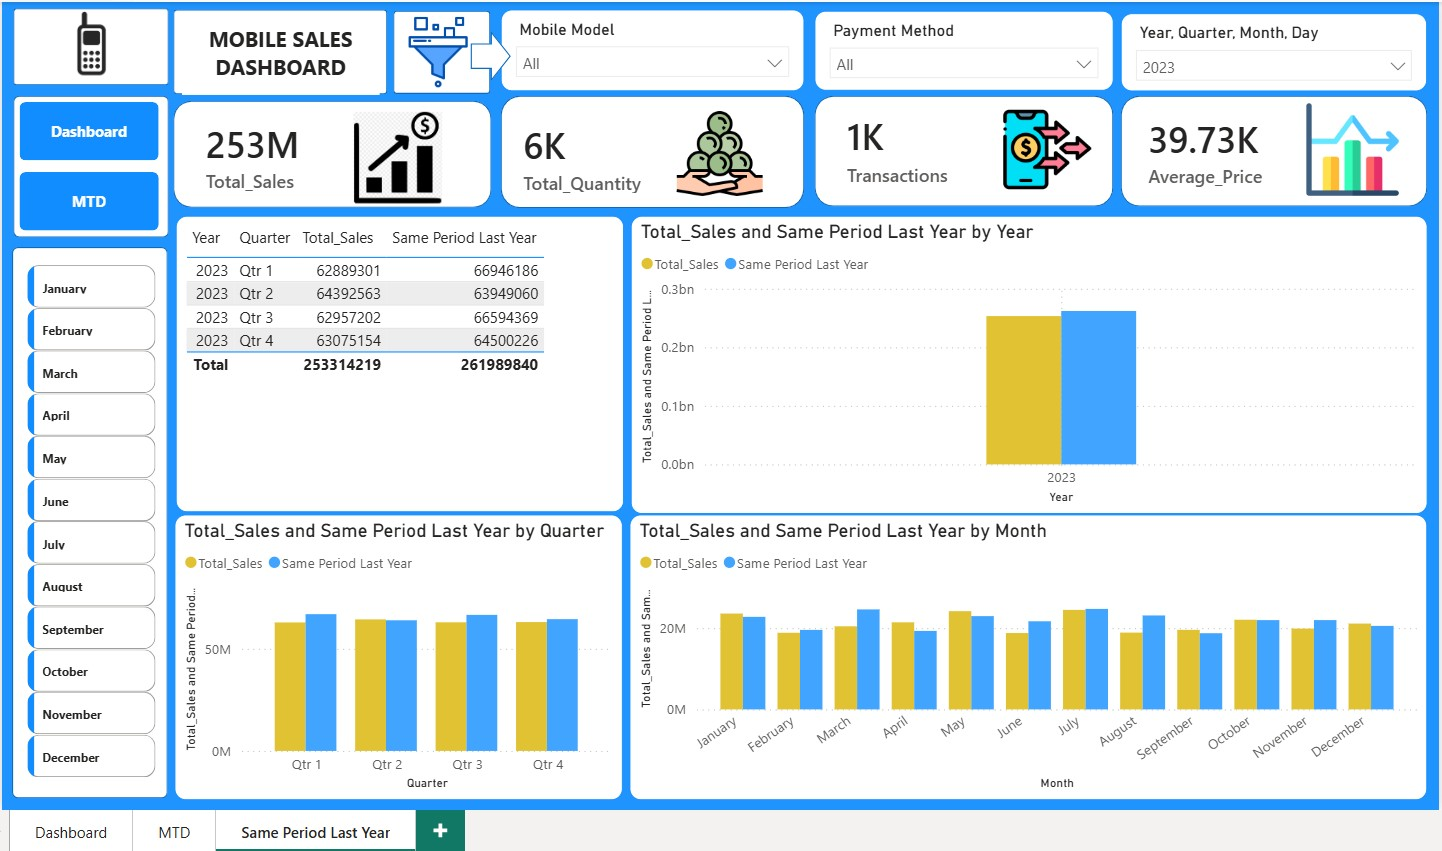

The page's visual inventory and layout, read from the dashboard file:
{"tool":"powerbi","page":{"name":"Same Period Last Year","canvas":[1280,720],"ordinal":2},"visuals":[{"type":"shape","box":[9.6,5.5,138.6,68.6],"z":0},{"type":"shape","box":[9.6,83.7,138.6,126.2],"z":1000},{"type":"shape","box":[152,88.1,283.5,95.3],"z":2000},{"type":"image","box":[16.5,5.5,124.9,63.1],"z":3000},{"type":"cardVisual","fields":{"Data":["Mobile_Data.Total_Sales"]},"box":[152.3,83.7,142.7,107],"z":4000},{"type":"image","box":[312.9,94.7,79.6,87.8],"z":5000},{"type":"shape","box":[444.6,83.7,270.3,100.2],"z":6000},{"type":"cardVisual","fields":{"Data":["Mobile_Data.Total_Quantity"]},"box":[435,90.6,164.7,97.4],"z":7000},{"type":"shape","box":[996.2,83.7,273.1,98.8],"z":8000},{"type":"shape","box":[723.2,83.7,266.2,98.8],"z":9000},{"type":"image","box":[591.4,94.7,96.1,81],"z":10000},{"type":"cardVisual","fields":{"Data":["Mobile_Data.Transactions"]},"box":[723.2,82.3,153.7,97.4],"z":11000},{"type":"cardVisual","fields":{"Data":["Mobile_Data.Average_Price"]},"box":[992.1,82.3,161.9,101.5],"z":12000},{"type":"image","box":[891.9,90.6,78.2,82.3],"z":13000},{"type":"image","box":[1154,90.6,97.4,82.3],"z":14000},{"type":"slicer","fields":{"Values":["Mobile_Data.Mobile Model"]},"box":[444.6,6.9,270.3,72.7],"z":15000},{"type":"slicer","fields":{"Values":["Custom_Calendar.Date.Variation.Date Hierarchy.Year","Custom_Calendar.Date.Variation.Date Hierarchy.Quarter","Custom_Calendar.Date.Variation.Date Hierarchy.Month","Custom_Calendar.Date.Variation.Date Hierarchy.Day"]},"box":[996.2,9.6,273.1,70],"z":16000},{"type":"slicer","fields":{"Values":["Mobile_Data.Payment Method"]},"box":[723.2,8.2,266.2,71.4],"z":17000},{"type":"shape","box":[348.5,8.2,86.4,74.1],"z":18000},{"type":"image","box":[344.4,12.3,89.2,64.5],"z":19000},{"type":"shape","box":[417.2,26.1,35.7,45.3],"z":20000},{"type":"shape","box":[152.3,6.9,190.7,75.5],"z":21000},{"type":"textbox","box":[160.5,15.1,175.6,67.2],"z":22000},{"type":"shape","box":[8.4,218.4,138.7,491],"z":23000},{"type":"advancedSlicerVisual","fields":{"Values":["Custom_Calendar.Date.Variation.Date Hierarchy.Month"]},"box":[18.1,229.2,124.3,471.7],"z":24000},{"type":"tableEx","fields":{"Values":["Custom_Calendar.Date.Variation.Date Hierarchy.Year","Custom_Calendar.Date.Variation.Date Hierarchy.Quarter","Mobile_Data.Total_Sales","Mobile_Data.Same Period Last Year"]},"box":[154.4,190.6,399.3,264.2],"z":25000},{"type":"clusteredColumnChart","fields":{"Category":["Custom_Calendar.Date.Variation.Date Hierarchy.Year","Custom_Calendar.Date.Variation.Date Hierarchy.Quarter"],"Y":["Mobile_Data.Total_Sales","Mobile_Data.Same Period Last Year"]},"box":[559.8,190.6,709.4,265.4],"z":26000},{"type":"clusteredColumnChart","fields":{"Y":["Mobile_Data.Total_Sales","Mobile_Data.Same Period Last Year"],"Category":["Custom_Calendar.Date.Variation.Date Hierarchy.Month","Custom_Calendar.Date.Variation.Date Hierarchy.Day"]},"box":[558.6,456,710.6,254.6],"z":27000},{"type":"clusteredColumnChart","fields":{"Category":["Custom_Calendar.Date.Variation.Date Hierarchy.Year","Custom_Calendar.Date.Variation.Date Hierarchy.Quarter"],"Y":["Mobile_Data.Total_Sales","Mobile_Data.Same Period Last Year"]},"box":[153.2,456,399.3,254.6],"z":28000},{"type":"pageNavigator","box":[15.7,89.3,124.3,114.6],"z":29000}]}

Visuals, with their boxes on the page's 1280x720 design canvas (x1, y1, x2, y2). These are canvas units, not pixel positions in the 1442x851 screenshot, which may show the page scaled, cropped or inside an application window:
shape: rect(10, 6, 148, 74)
shape: rect(10, 84, 148, 210)
shape: rect(152, 88, 436, 183)
image: rect(16, 6, 141, 69)
cardVisual - Mobile_Data.Total_Sales: rect(152, 84, 295, 191)
image: rect(313, 95, 392, 182)
shape: rect(445, 84, 715, 184)
cardVisual - Mobile_Data.Total_Quantity: rect(435, 91, 600, 188)
shape: rect(996, 84, 1269, 182)
shape: rect(723, 84, 989, 182)
image: rect(591, 95, 688, 176)
cardVisual - Mobile_Data.Transactions: rect(723, 82, 877, 180)
cardVisual - Mobile_Data.Average_Price: rect(992, 82, 1154, 184)
image: rect(892, 91, 970, 173)
image: rect(1154, 91, 1251, 173)
slicer - Mobile_Data.Mobile Model: rect(445, 7, 715, 80)
slicer - Custom_Calendar.Date.Variation.Date Hierarchy.Year x Custom_Calendar.Date.Variation.Date Hierarchy.Quarter: rect(996, 10, 1269, 80)
slicer - Mobile_Data.Payment Method: rect(723, 8, 989, 80)
shape: rect(348, 8, 435, 82)
image: rect(344, 12, 434, 77)
shape: rect(417, 26, 453, 71)
shape: rect(152, 7, 343, 82)
textbox: rect(160, 15, 336, 82)
shape: rect(8, 218, 147, 709)
advancedSlicerVisual - Custom_Calendar.Date.Variation.Date Hierarchy.Month: rect(18, 229, 142, 701)
tableEx - Custom_Calendar.Date.Variation.Date Hierarchy.Year x Custom_Calendar.Date.Variation.Date Hierarchy.Quarter: rect(154, 191, 554, 455)
clusteredColumnChart - Custom_Calendar.Date.Variation.Date Hierarchy.Year x Custom_Calendar.Date.Variation.Date Hierarchy.Quarter: rect(560, 191, 1269, 456)
clusteredColumnChart - Mobile_Data.Total_Sales x Mobile_Data.Same Period Last Year: rect(559, 456, 1269, 711)
clusteredColumnChart - Custom_Calendar.Date.Variation.Date Hierarchy.Year x Custom_Calendar.Date.Variation.Date Hierarchy.Quarter: rect(153, 456, 552, 711)
pageNavigator: rect(16, 89, 140, 204)
